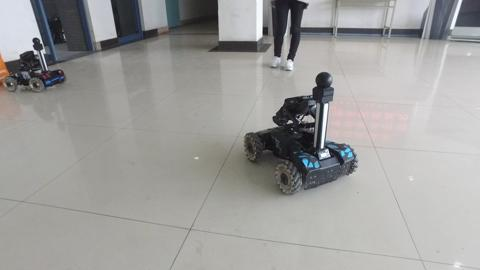chariot: (242, 69, 359, 196), (2, 36, 67, 92)
